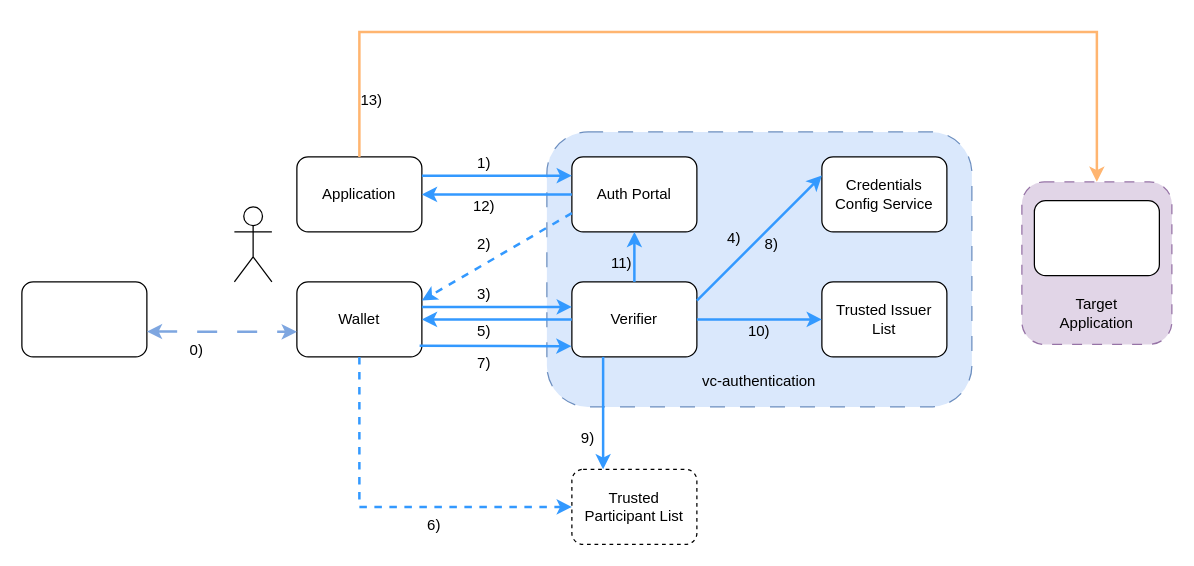
Image size: 1194x566. Some labels were removed from this diagram. Each missing label, with the centre of its shape:
"Context Broker" goes at (x=1096, y=237).
"Issuer" goes at (x=84, y=319).
"LEAR" goes at (x=252, y=244).
